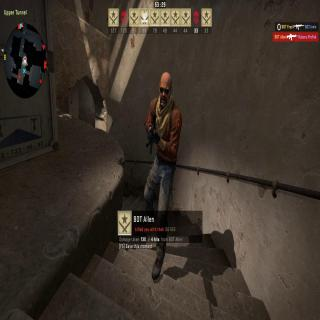T-Body: (139, 73, 183, 276)
T-Head: (159, 72, 173, 106)
